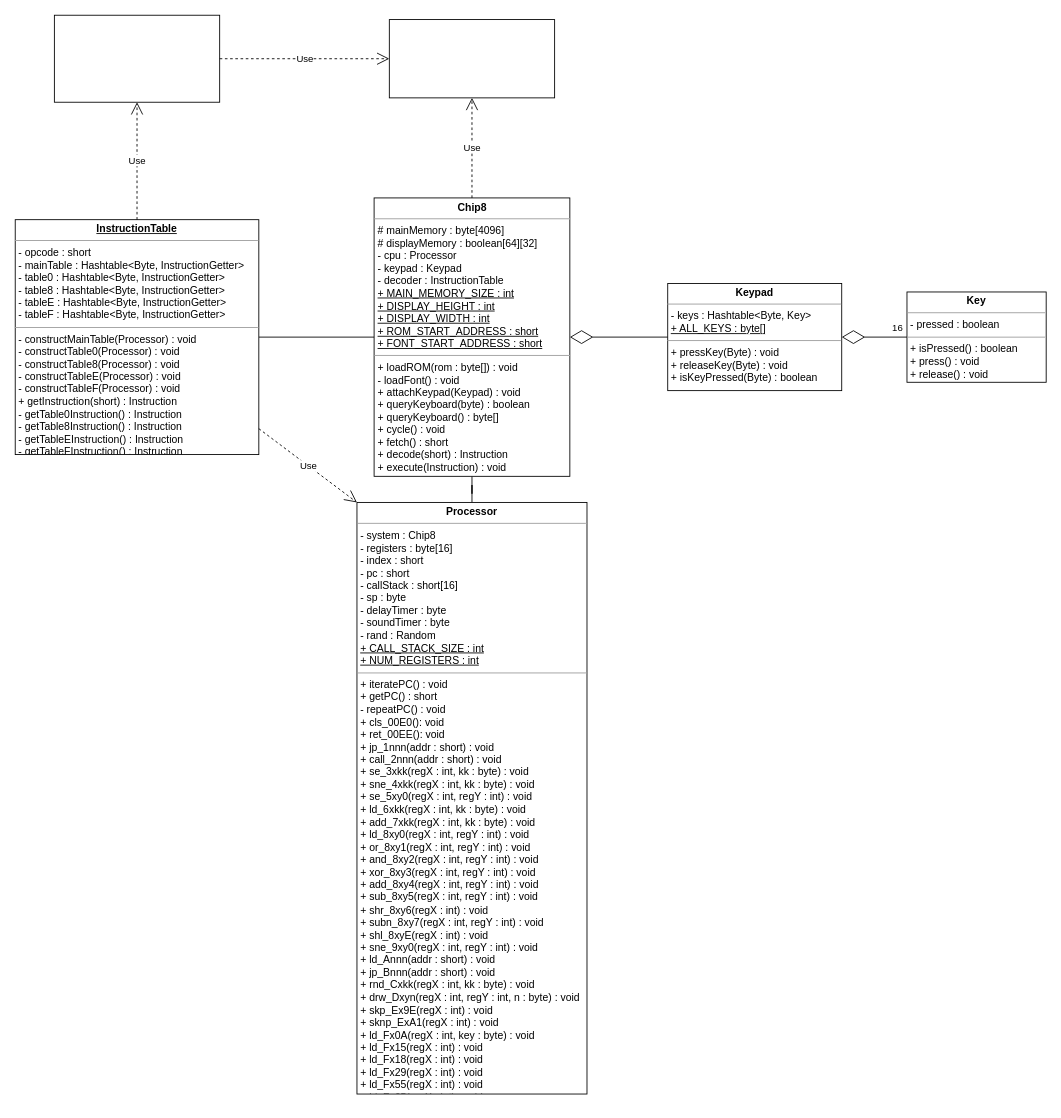
Image size: 1061x1118. Some labels were removed from this diagram. Here are the shapes that lost their labels. From the top down, the centre of each, then its label:
[137,58]: <<Interface>> InstructionGetter + getInstruction() : Instruction
[471,58]: <<Interface>> Instruction + execute() : void
